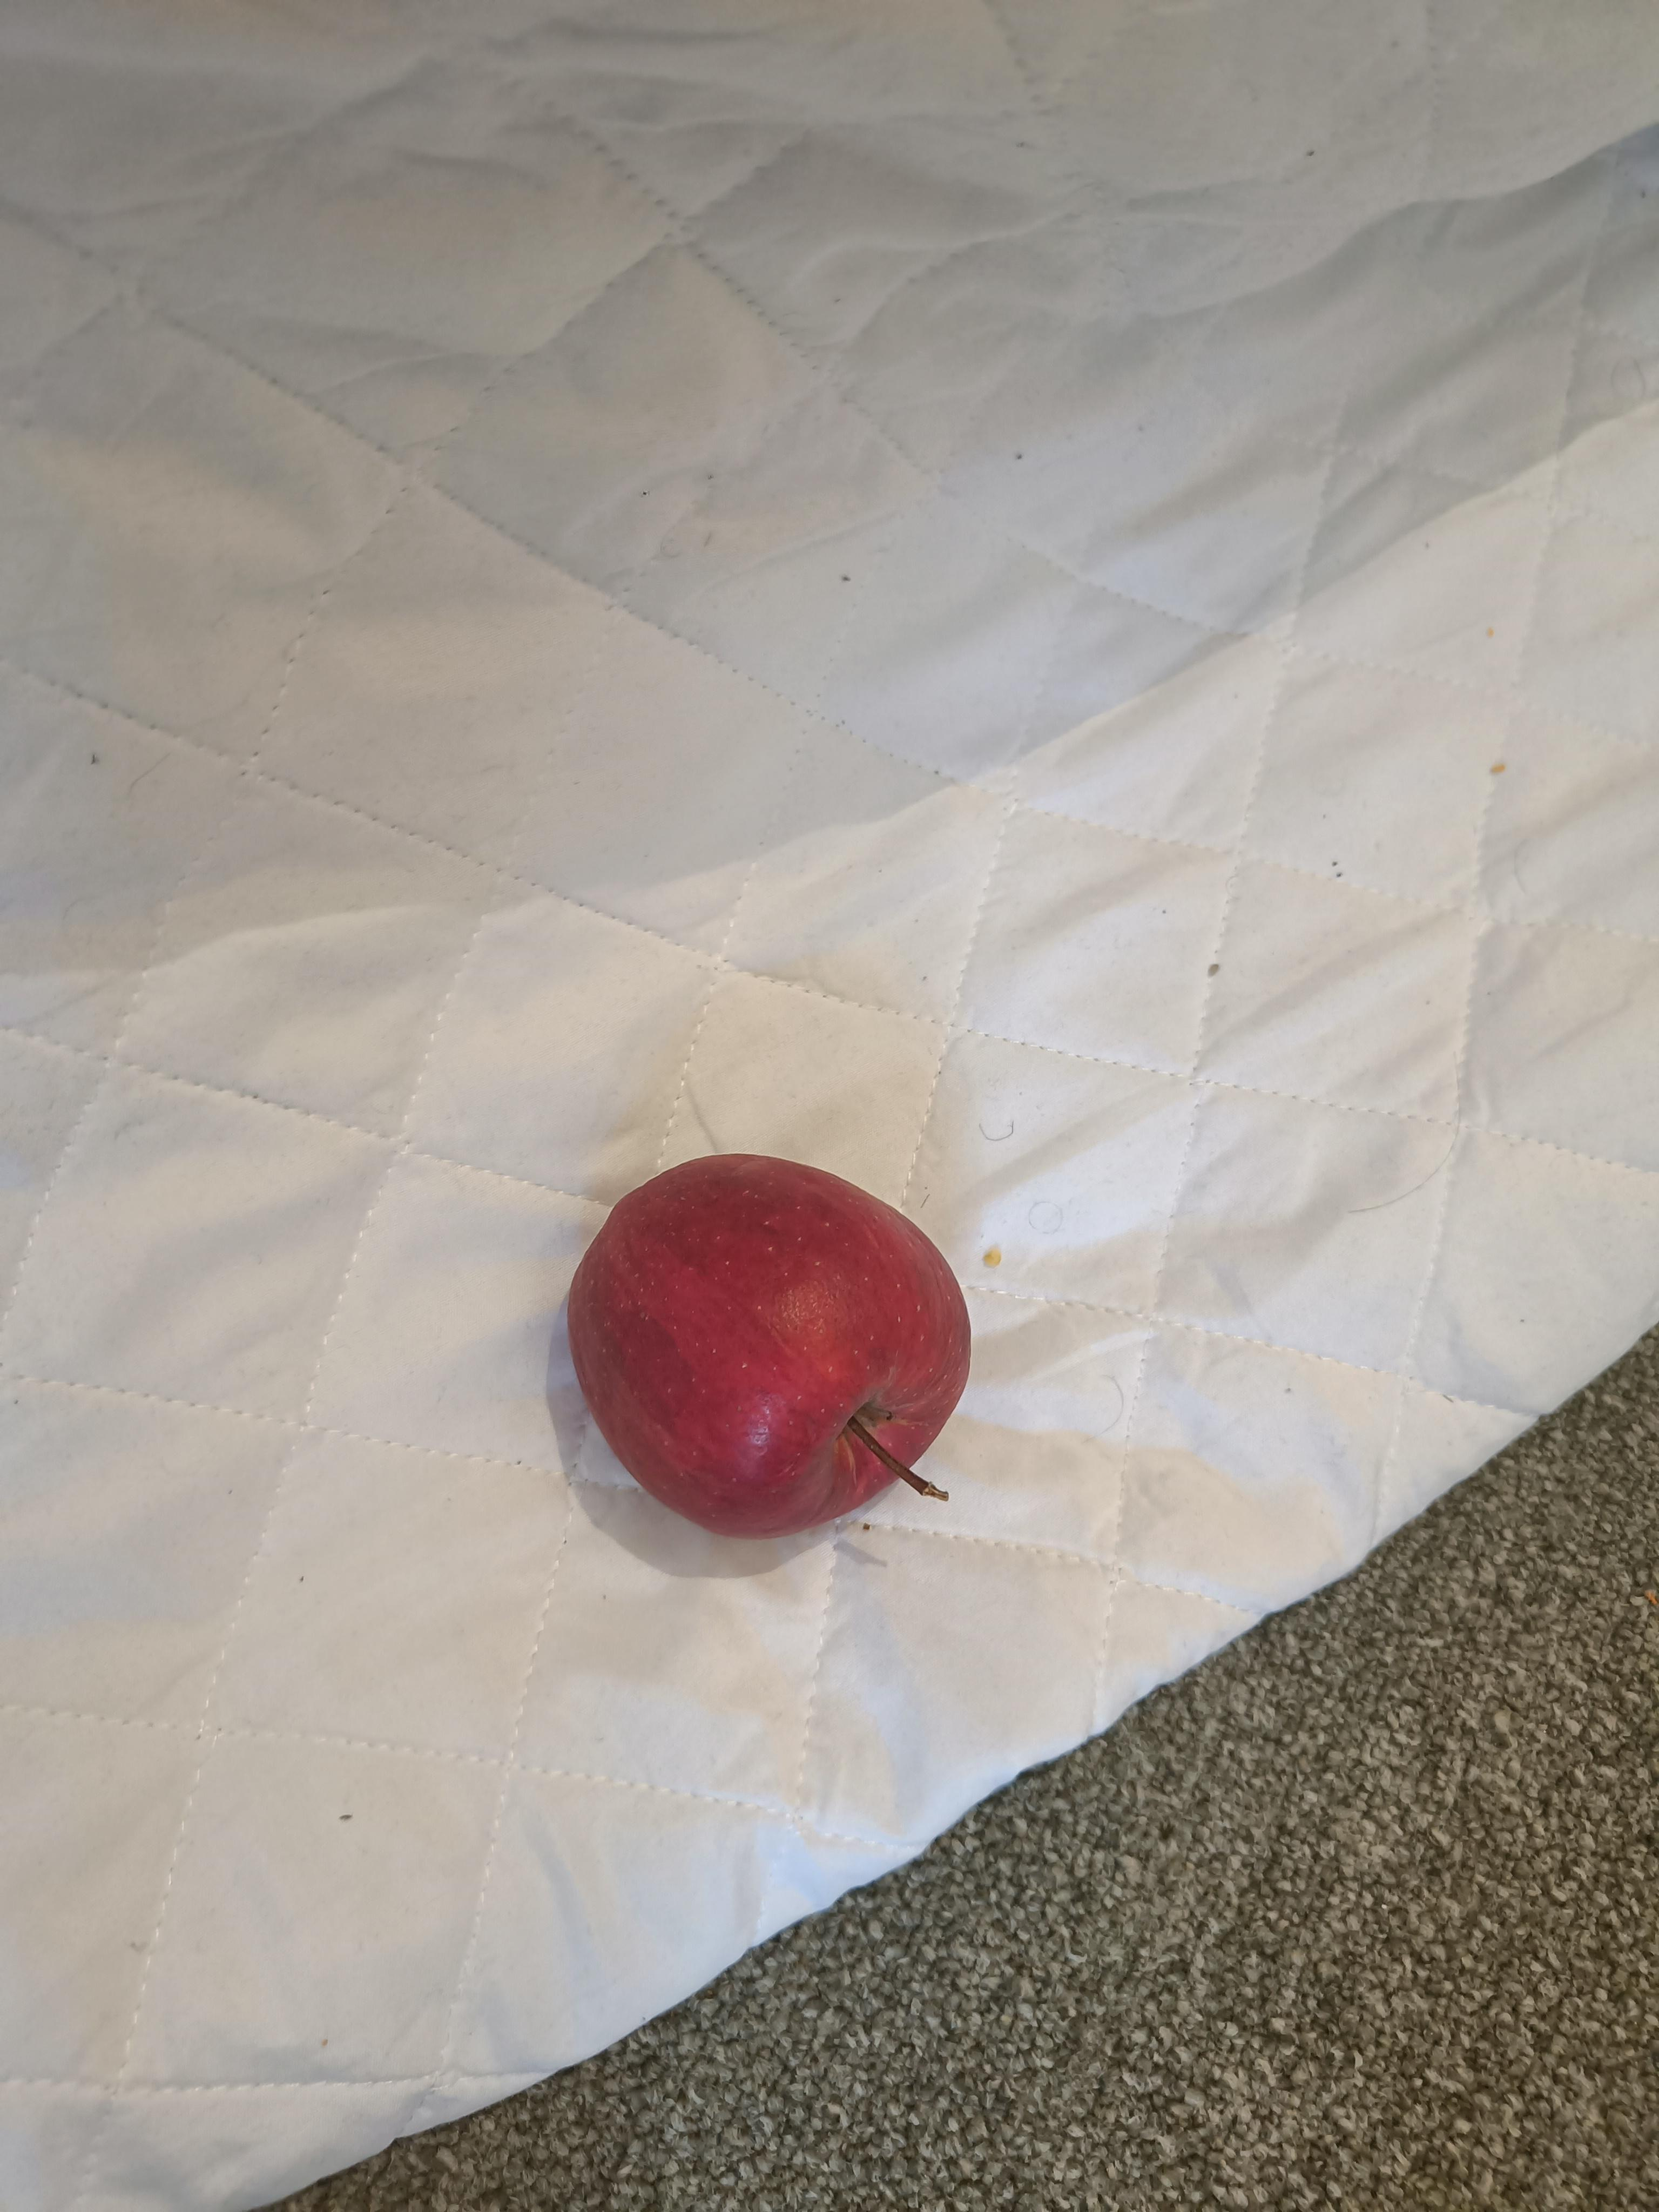Apple: (537, 1118, 1016, 1568)
